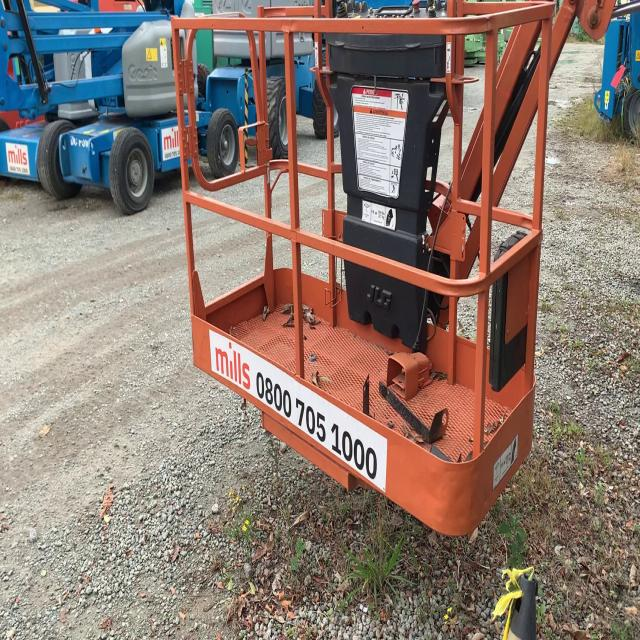Adesivo Longo: (209, 324, 388, 495)
